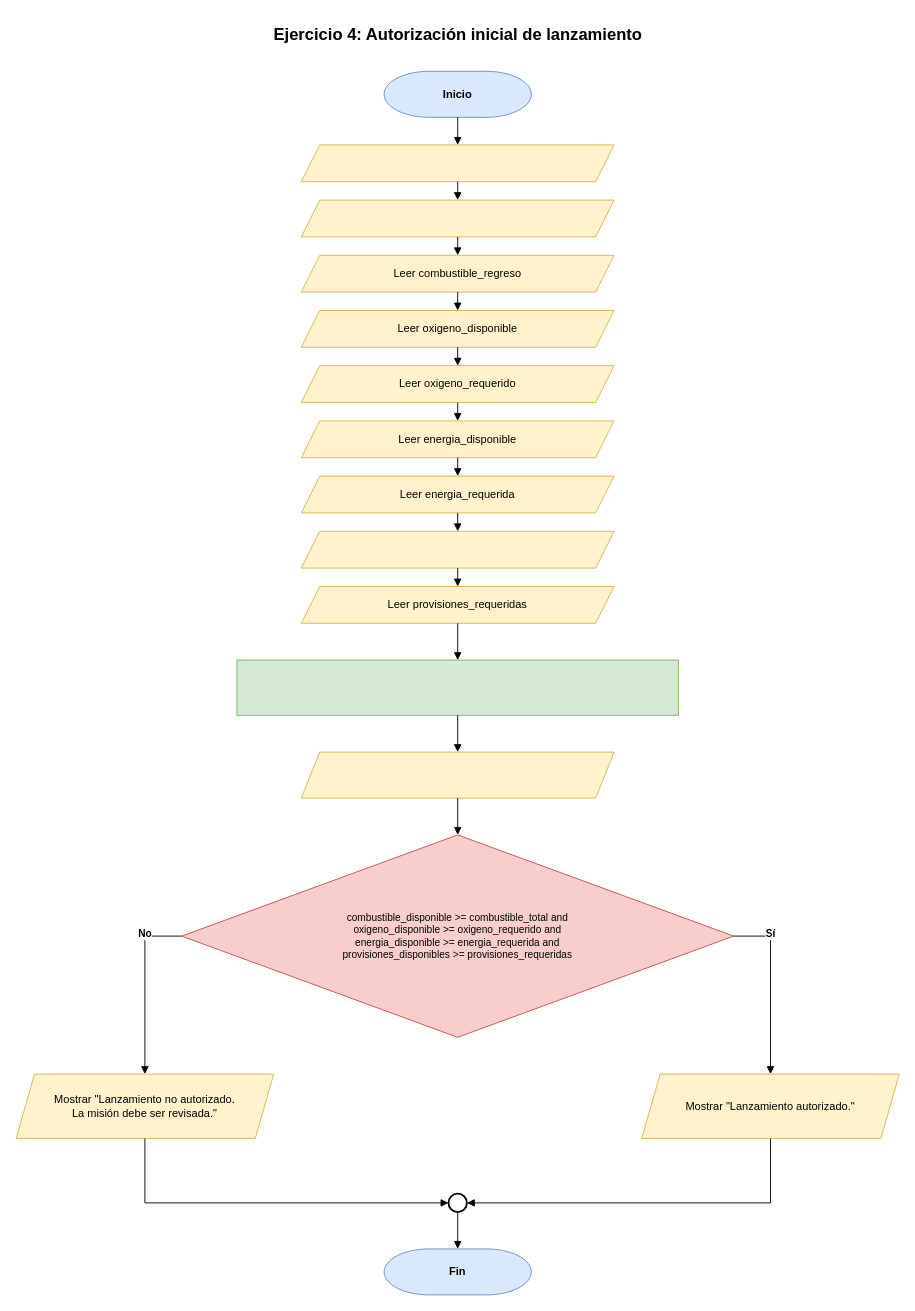
Some shapes in this 915 by 1311 pixel diagram are drawn without their labels. The box of each missing label's shape, as (x1, y1, x2, y2) in pixels:
combustible_total = combustible_ida + combustible_regreso + RESERVA_COMBUSTIBLE: (236, 659, 678, 715)
Leer combustible_disponible: (300, 144, 614, 182)
Leer combustible_ida: (300, 199, 614, 237)
Leer provisiones_disponibles: (300, 530, 614, 568)
Mostrar combustible_total: (300, 751, 614, 798)
